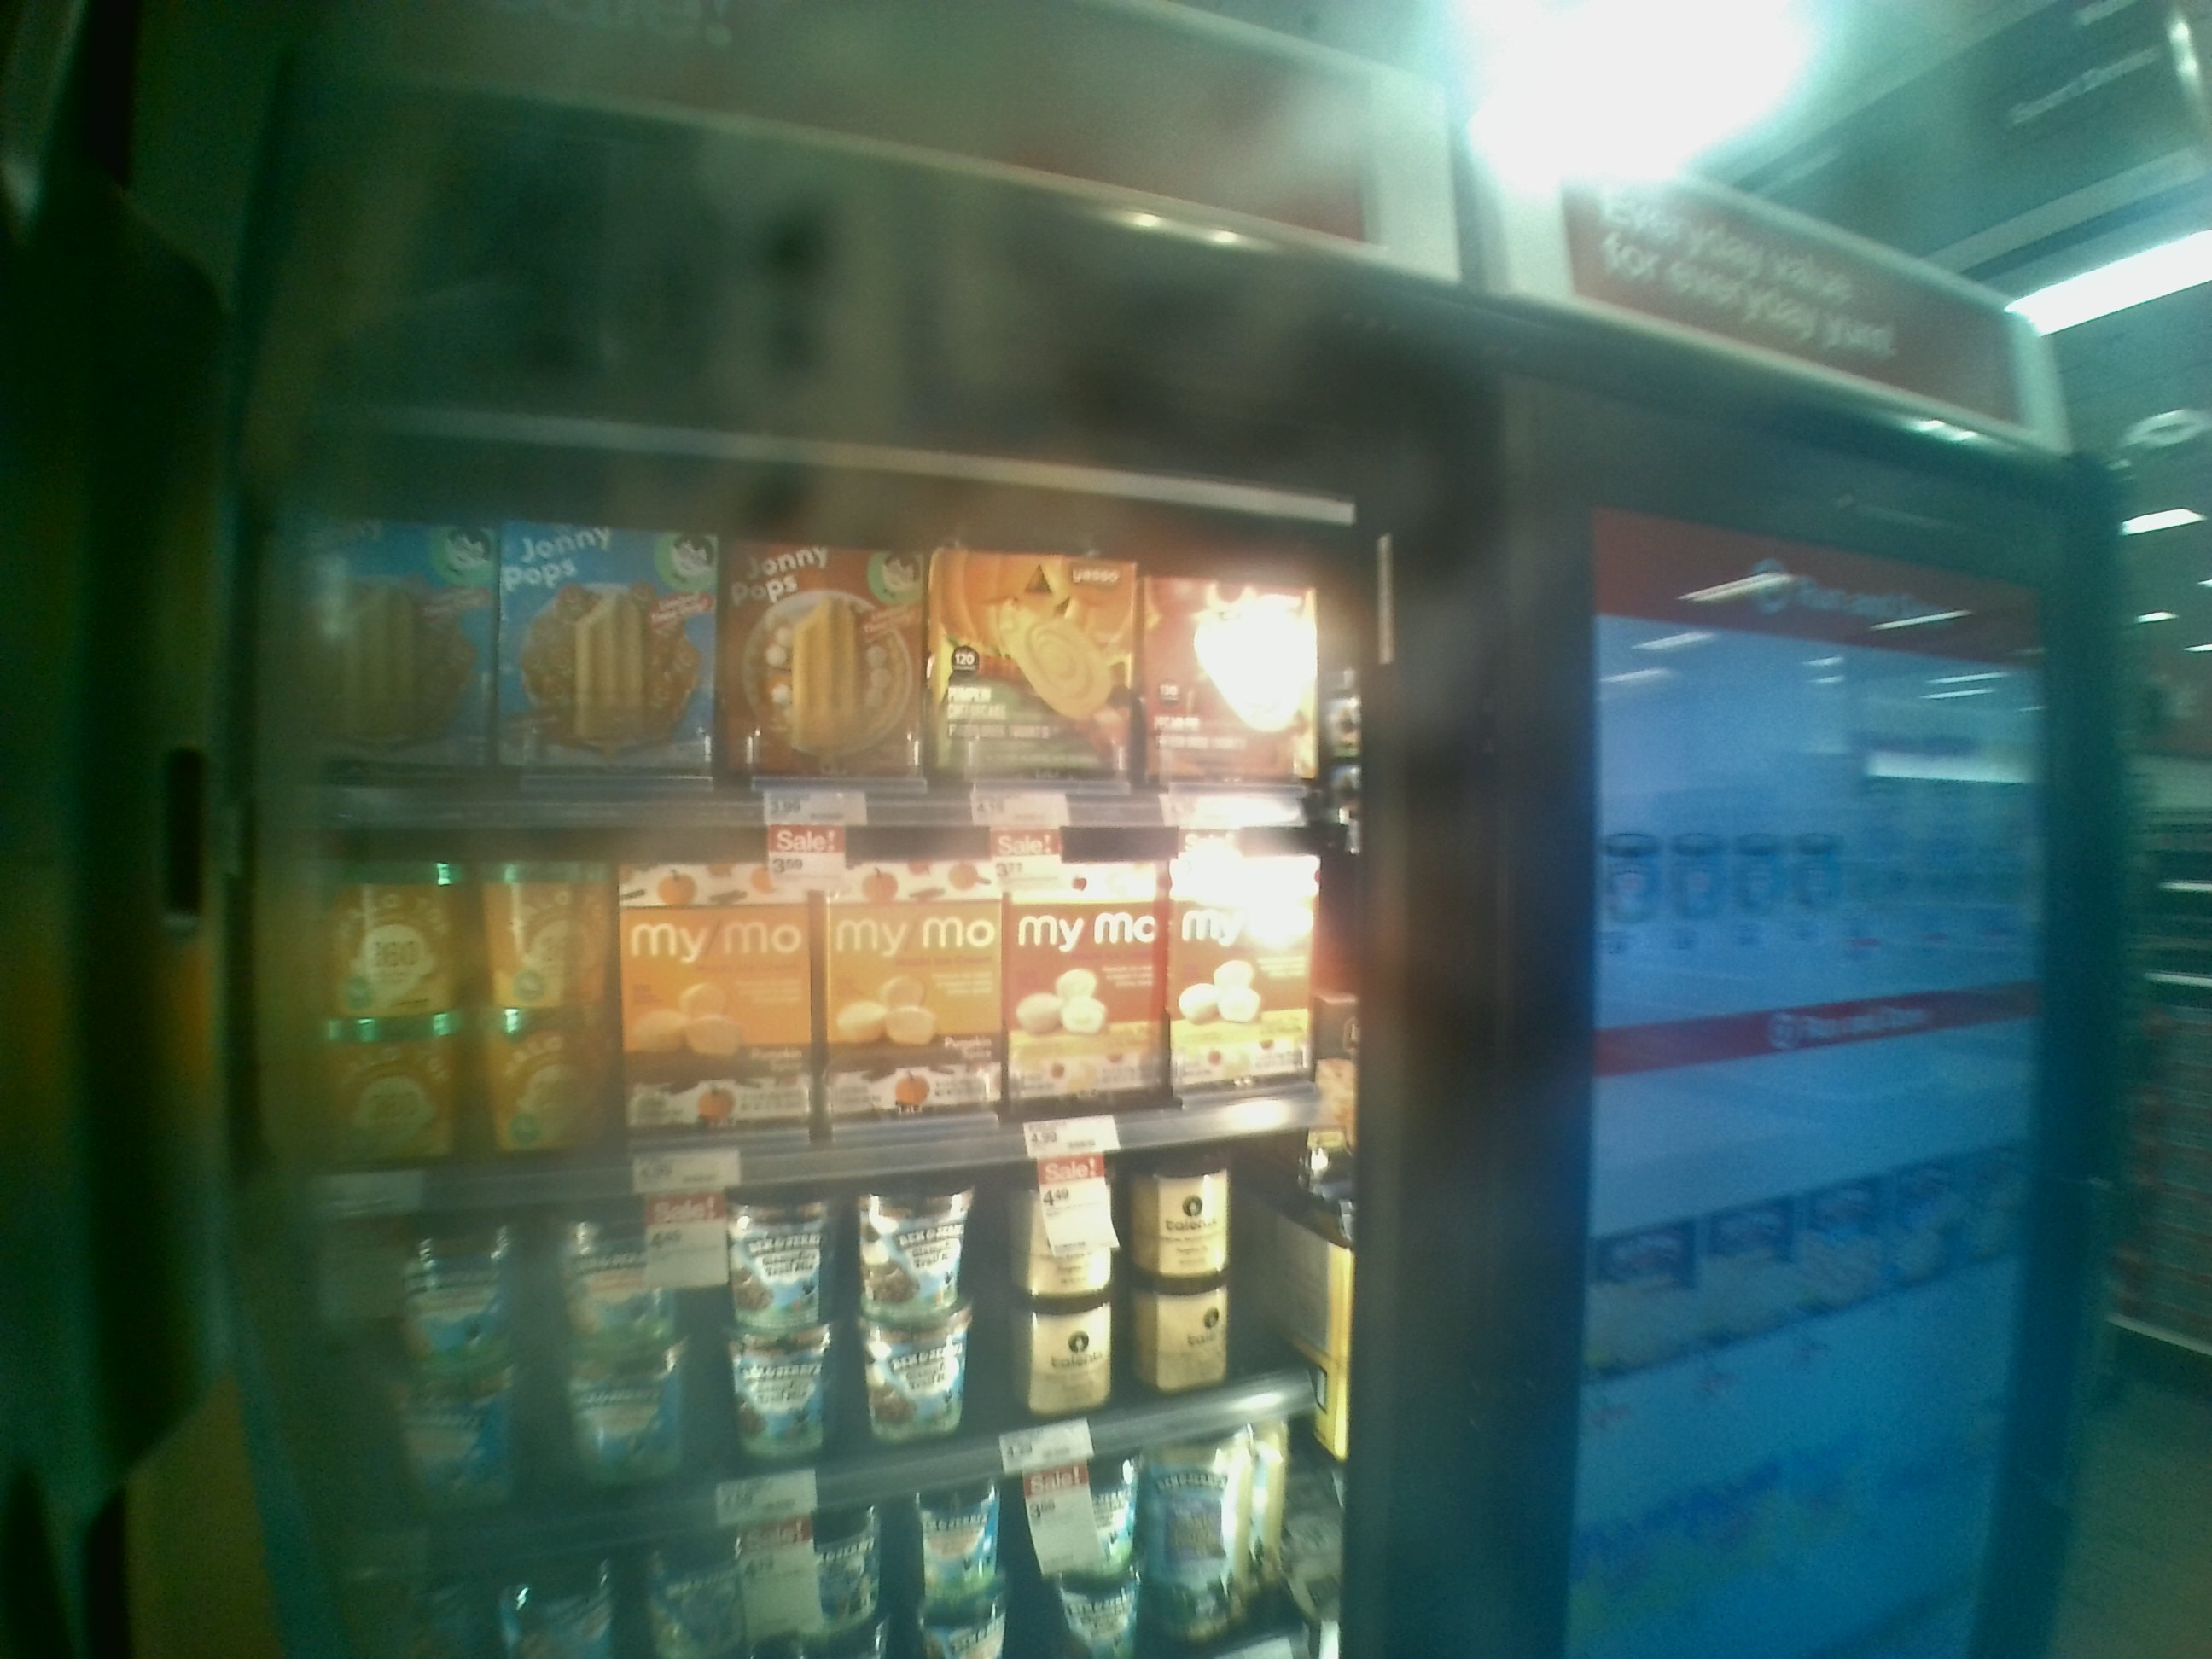shelf: (256, 439, 1369, 807), (253, 821, 1352, 1143), (270, 1134, 1348, 1422)
